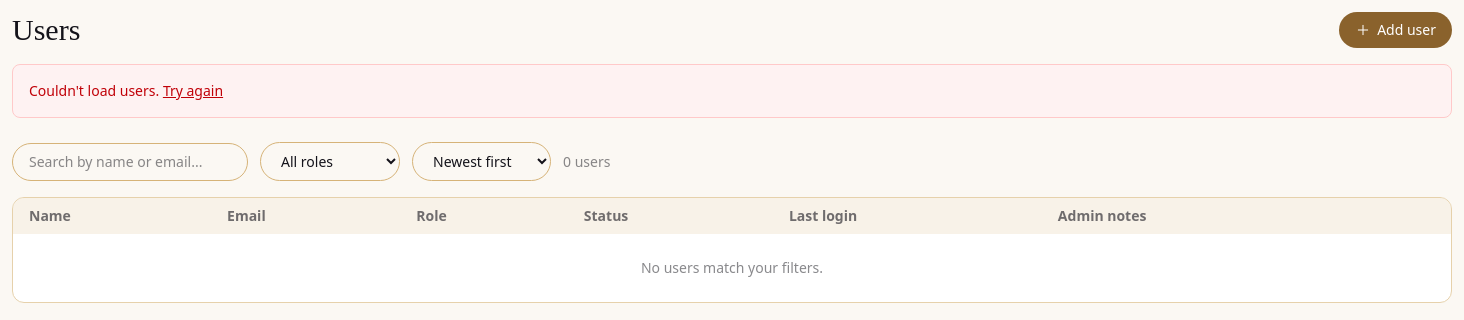
Test: AdminUsers › shows an error with retry when the list fails to load
Check: the text "Couldn't load users. Try again" is shown, box x1=12 y1=64 x2=1452 y2=118
Click the button "Try again" at (193, 91), box x1=163 y1=81 x2=223 y2=101
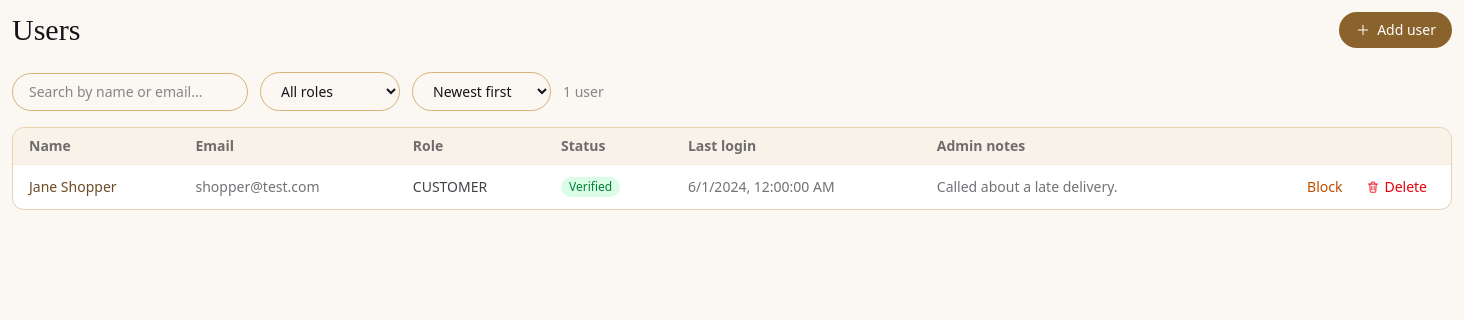
Check: the link "Jane Shopper" is shown, box x1=29 y1=177 x2=117 y2=196
